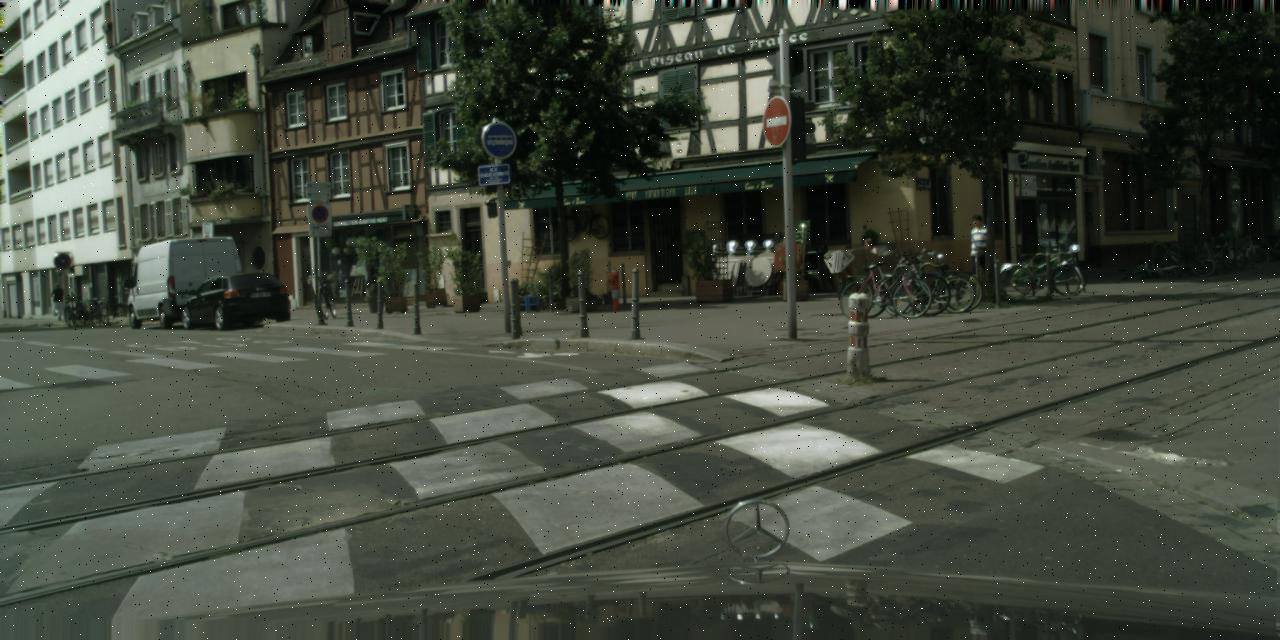ped: (964, 214, 995, 292), (50, 282, 65, 320)
